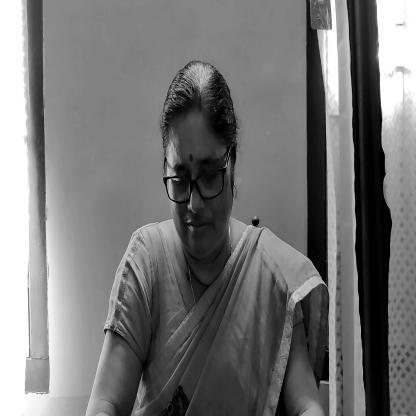Normal: (158, 76, 237, 258)
